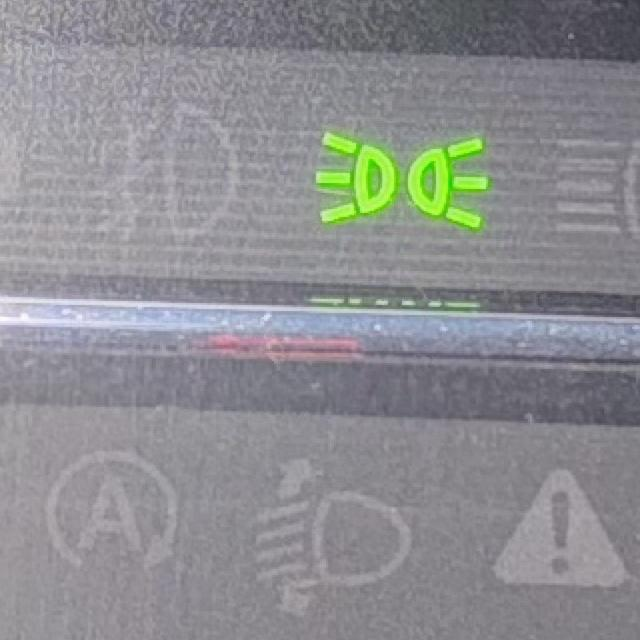Parking Light On: (312, 129, 493, 232)
